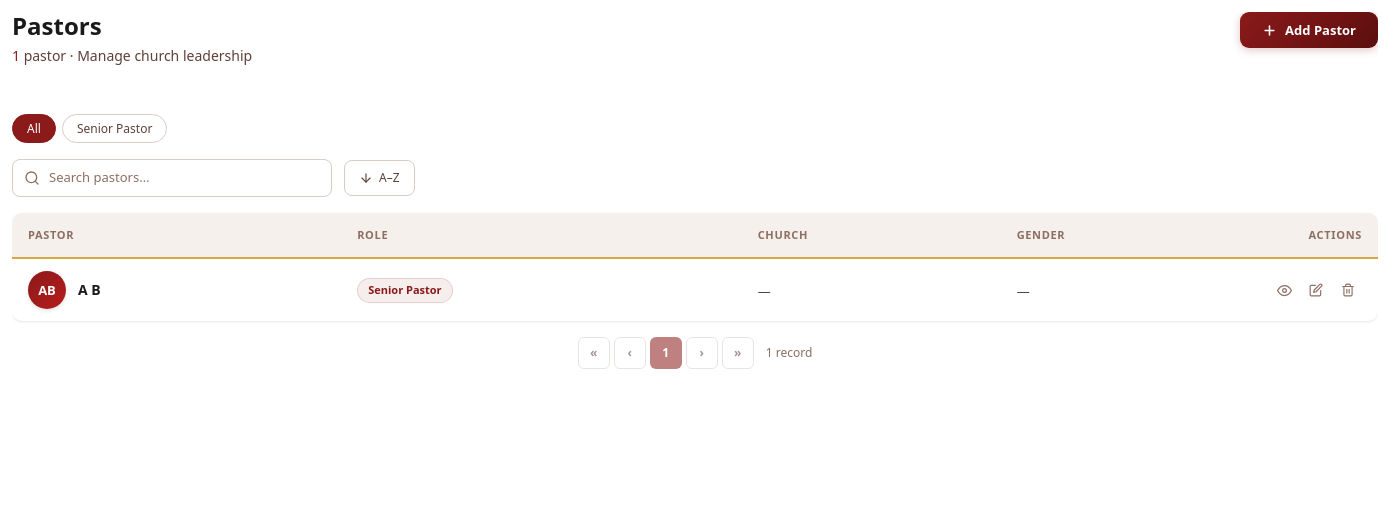
Pastors › shows empty state with search filter
In the field with placeholder "Search pastors…": (172, 178) [12, 159, 332, 197], type "nonexistent"
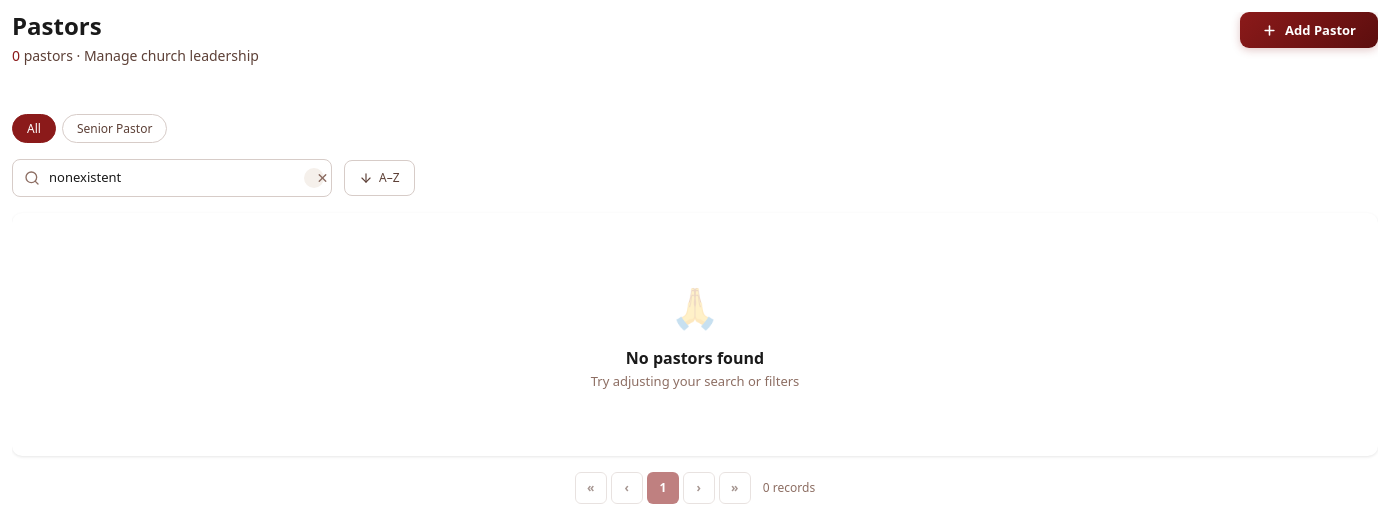
expect the text "Try adjusting your search or filters" is shown: met, box [591, 372, 799, 390]
